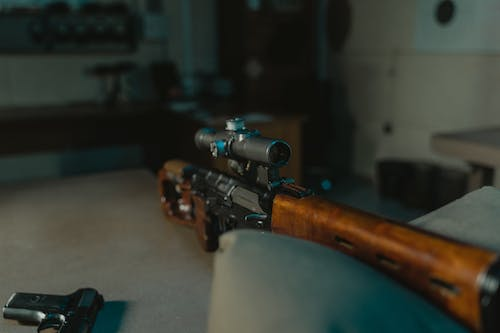gun: (156, 116, 500, 333), (0, 283, 105, 333)
